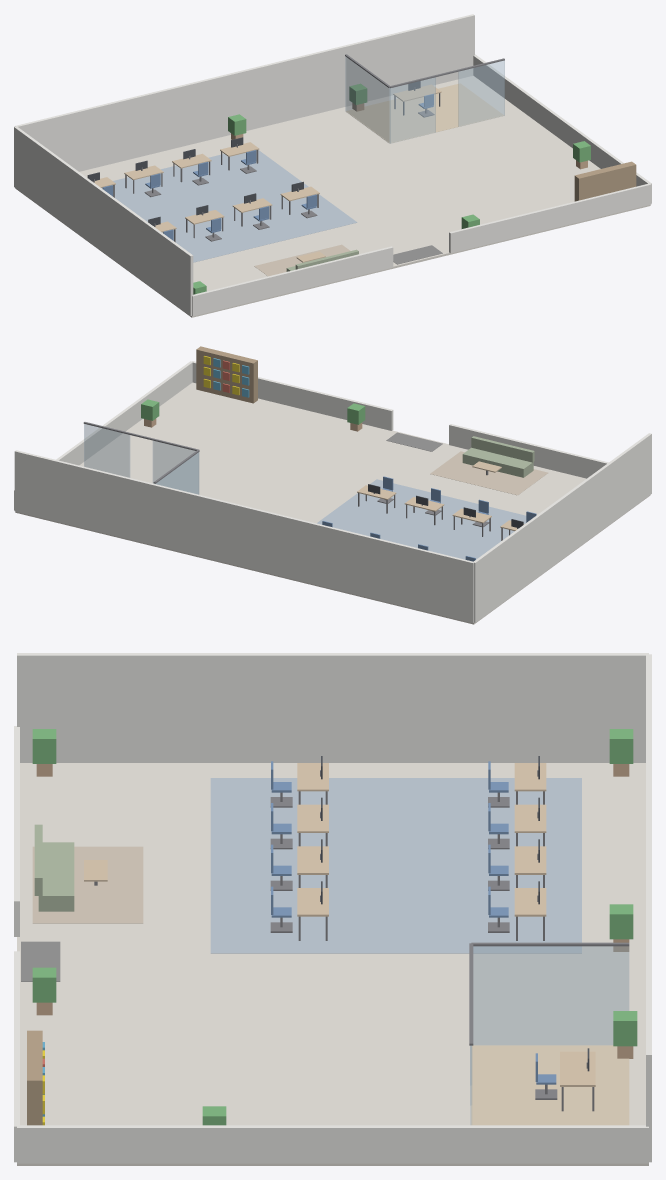
Rendered from ornek-ofis.glb.
3 views of the same model, one above another, from view 1: azimuth 30°, elevation 25°; view 2: azimuth 150°, elevation 25°; view 3: azimuth 270°, elevation 25° (orthographic). The views are drawn at different scales.
Visible parts, largest first — view 1: Ofis_duvar, Ofis_zemin, Ofis_halı_çalışma, Ofis_cam, Ofis_parke, Ofis_masa, Ofis_metal, Ofis_raf, Ofis_bitki, Ofis_koltuk, Ofis_ekran, Ofis_halı_bekleme (+1 smaller); view 2: Ofis_duvar, Ofis_zemin, Ofis_halı_çalışma, Ofis_cam, Ofis_raf, Ofis_halı_bekleme, Ofis_kanepe, Ofis_masa, Ofis_metal, Ofis_koltuk, Ofis_bitki, Ofis_paspas (+3 smaller); view 3: Ofis_zemin, Ofis_duvar, Ofis_halı_çalışma, Ofis_cam, Ofis_parke, Ofis_masa, Ofis_halı_bekleme, Ofis_bitki, Ofis_metal, Ofis_kanepe, Ofis_koltuk, Ofis_raf (+2 smaller).
Boxes of the visible parts, left/top/right/bottom form: Ofis_duvar: left=14, top=14, right=651, bottom=316; Ofis_zemin: left=15, top=76, right=650, bottom=317; Ofis_halı_çalışma: left=101, top=150, right=357, bottom=262; Ofis_cam: left=345, top=57, right=504, bottom=143; Ofis_parke: left=346, top=83, right=504, bottom=143; Ofis_masa: left=93, top=84, right=441, bottom=262; Ofis_metal: left=93, top=54, right=504, bottom=242; Ofis_raf: left=574, top=161, right=636, bottom=201; Ofis_bitki: left=193, top=83, right=590, bottom=294; Ofis_koltuk: left=102, top=94, right=433, bottom=240; Ofis_ekran: left=87, top=81, right=420, bottom=225; Ofis_halı_bekleme: left=254, top=244, right=350, bottom=276; Ofis_duvar: left=14, top=361, right=651, bottom=622; Ofis_zemin: left=15, top=382, right=650, bottom=624; Ofis_halı_çalışma: left=317, top=479, right=526, bottom=559; Ofis_cam: left=84, top=424, right=199, bottom=494; Ofis_raf: left=196, top=346, right=257, bottom=403; Ofis_halı_bekleme: left=430, top=451, right=548, bottom=495; Ofis_kanepe: left=462, top=436, right=534, bottom=477; Ofis_masa: left=357, top=461, right=524, bottom=530; Ofis_metal: left=83, top=422, right=518, bottom=540; Ofis_koltuk: left=322, top=476, right=536, bottom=561; Ofis_bitki: left=141, top=399, right=365, bottom=424; Ofis_paspas: left=386, top=432, right=442, bottom=451; Ofis_zemin: left=17, top=763, right=648, bottom=1165; Ofis_duvar: left=14, top=653, right=651, bottom=1163; Ofis_halı_çalışma: left=210, top=778, right=581, bottom=953; Ofis_cam: left=470, top=946, right=628, bottom=1124; Ofis_parke: left=471, top=1045, right=629, bottom=1125; Ofis_masa: left=84, top=763, right=595, bottom=1086; Ofis_halı_bekleme: left=32, top=846, right=143, bottom=923; Ofis_bitki: left=32, top=729, right=637, bottom=1125; Ofis_metal: left=94, top=770, right=629, bottom=1111; Ofis_kanepe: left=34, top=824, right=74, bottom=911; Ofis_koltuk: left=271, top=761, right=556, bottom=1084; Ofis_raf: left=27, top=1030, right=42, bottom=1125.
Bounding box in the file's own units: 24.15 × 3.1 × 16.15.
